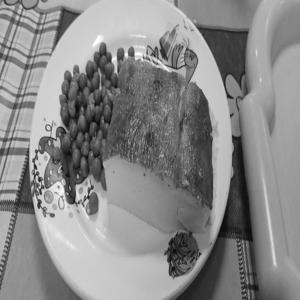casserole: (34, 27, 228, 249)
